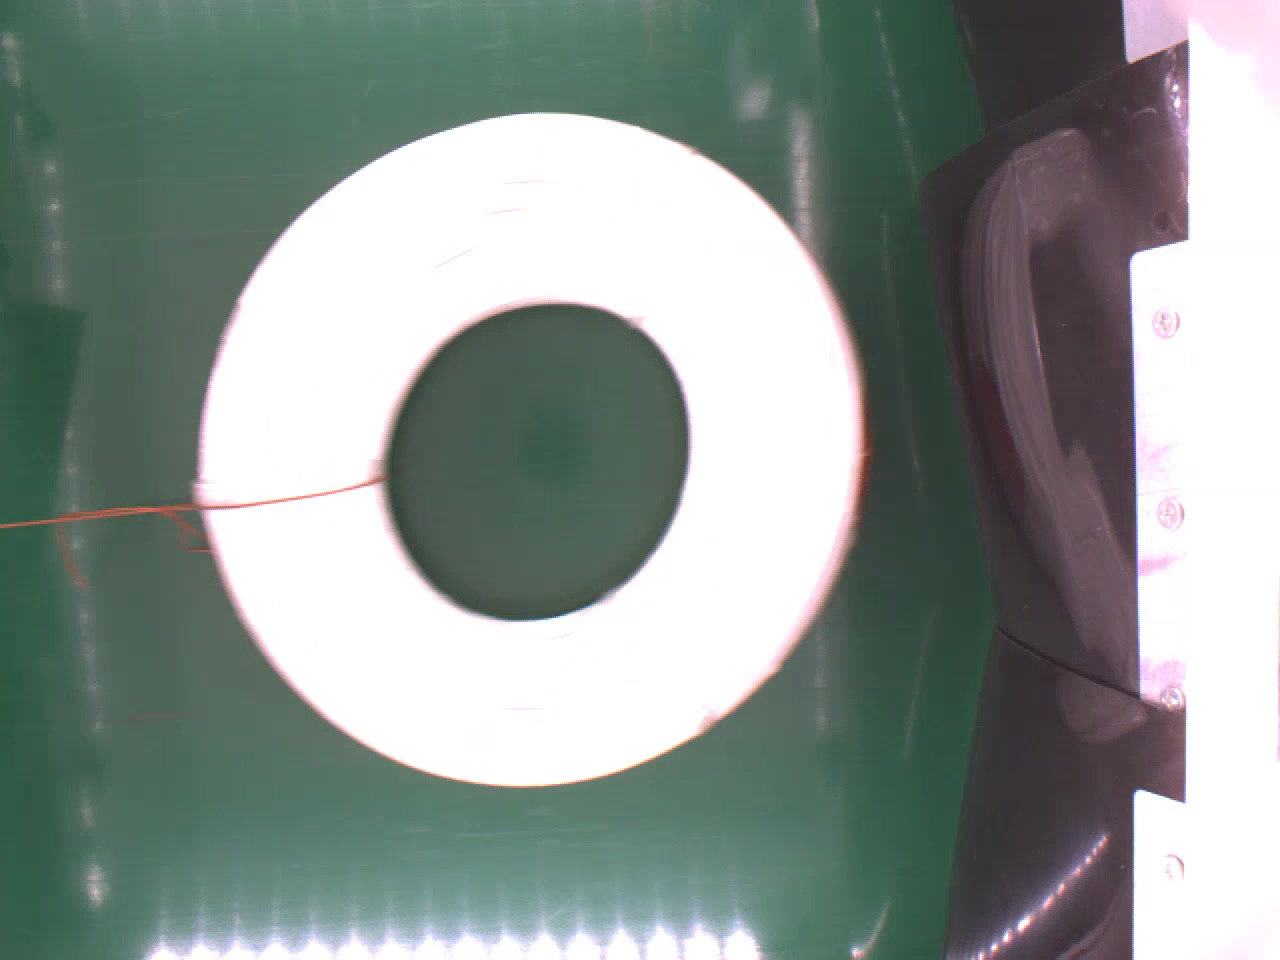white: (202, 110, 865, 788)
